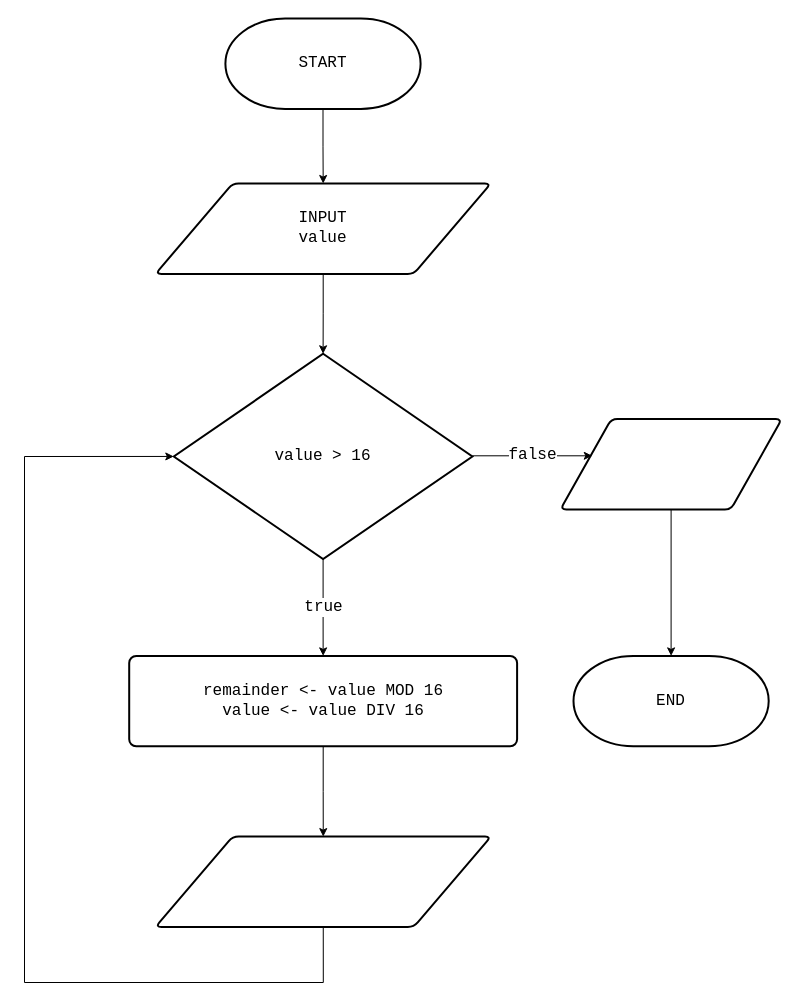
Image size: 800x1008. Some labels were removed from this diagram. Each missing label, with the centre of its shape:
OUTPUT remainder: the point at 323,881
OUTPUT value: the point at 670,464
